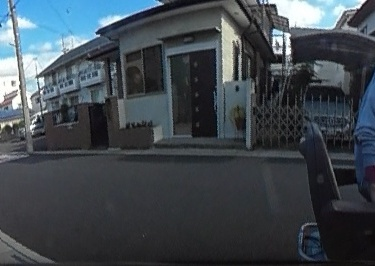person: (351, 26, 375, 211)
